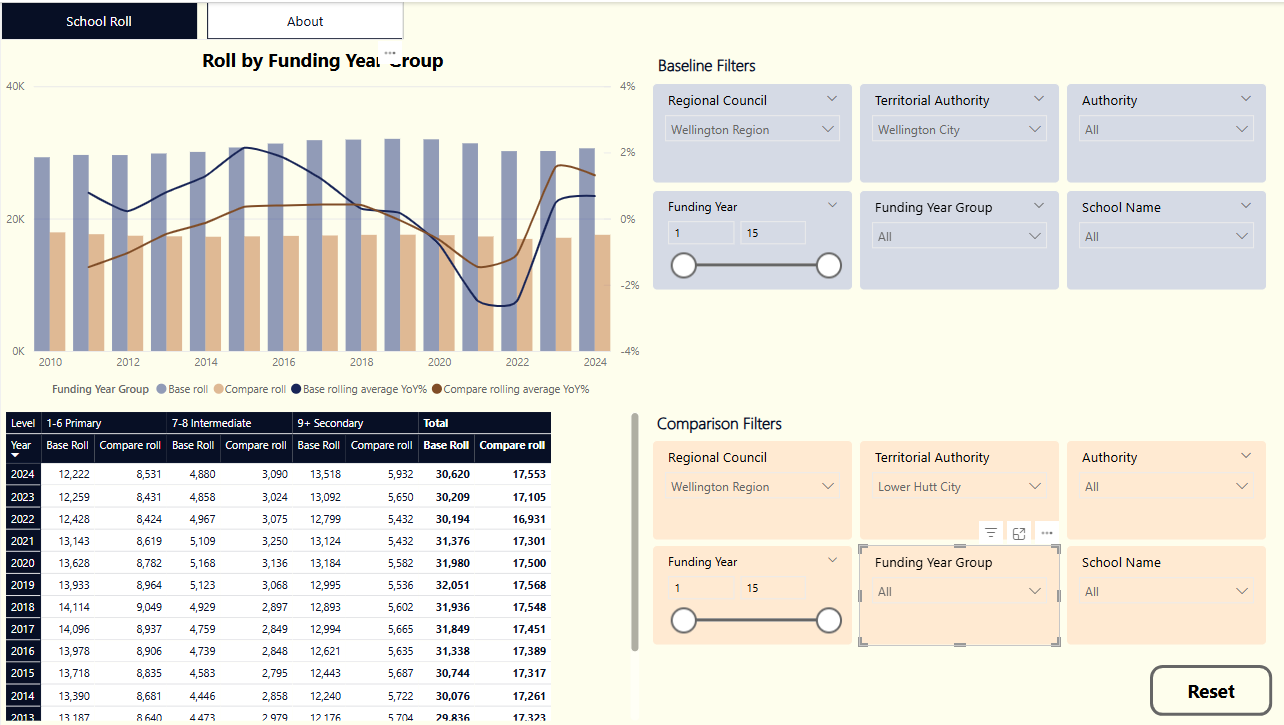

The dashboard page shown, as its layout file describes it:
{"tool":"powerbi","page":{"name":"School Roll","canvas":[1280,720],"ordinal":0},"visuals":[{"type":"slicer","fields":{"Values":["Regional Councils.school_regional_council"]},"box":[647.4,80.8,200,100],"z":0},{"type":"lineClusteredColumnComboChart","title":"Roll by Funding Year Group","fields":{"Category":["metric_funding.period_date.Variation.Date Hierarchy.Year"],"Y2":["metric_funding.roll rolling average YoY%","metric_funding.Compare roll rolling average YoY%"],"Y":["Sum(metric_funding.roll)","metric_funding.Compare roll"]},"box":[0,45,640,358],"z":1000},{"type":"pivotTable","fields":{"Rows":["metric_funding.period_date.Variation.Date Hierarchy.Year"],"Columns":["metric_funding.level"],"Values":["Sum(metric_funding.roll)","metric_funding.Compare roll"]},"box":[0,403,640,317],"z":2000},{"type":"actionButton","box":[1142.9,659.5,121.6,50.6],"z":3000},{"type":"slicer","fields":{"Values":["Compare Regional Councils.school_regional_council"]},"box":[647.3,435.3,200,100],"z":4000},{"type":"textbox","box":[648.4,46.8,610,34],"z":5000},{"type":"textbox","box":[647.3,402.3,610,33],"z":6000},{"type":"slicer","fields":{"Values":["Territorial Authorities.school_ta_with_akl_local_board"]},"box":[853.4,80.8,200,100],"z":7000},{"type":"slicer","fields":{"Values":["Compare Territorial Authorities.school_ta_with_akl_local_board"]},"box":[853.3,435.3,200,100],"z":8000},{"type":"slicer","fields":{"Values":["Authority.school_authority"]},"box":[1059.4,80.8,200,100],"z":9000},{"type":"slicer","fields":{"Values":["Compare Authority.school_authority"]},"box":[1059.3,435.3,200,100],"z":10000},{"type":"slicer","fields":{"Values":["Funding.Year"]},"box":[647.4,187,200,100],"z":11000},{"type":"slicer","fields":{"Values":["Compare Funding.year"]},"box":[647.3,540.1,200,100],"z":12000},{"type":"slicer","fields":{"Values":["School Names.school_name"]},"box":[1059.4,187,200,100],"z":13000},{"type":"slicer","fields":{"Values":["Compare School Names.school_name"]},"box":[1059.3,540.1,200,100],"z":14000},{"type":"slicer","fields":{"Values":["level.Level"]},"box":[853.4,187,200,100],"z":15000},{"type":"slicer","fields":{"Values":["Compare Level.Level"]},"box":[853.3,540.1,200,100],"z":16000},{"type":"pageNavigator","box":[0,0,400.3,37.8],"z":16001}]}

Visuals, with their boxes in screenshot pixels (x1, y1, x2, y2), scaled from the page's 1280x720 canvas onto the 1284x725 screenshot:
slicer - Regional Councils.school_regional_council: (649,81,850,182)
"Roll by Funding Year Group" lineClusteredColumnComboChart: (0,45,642,406)
pivotTable - metric_funding.period_date.Variation.Date Hierarchy.Year x metric_funding.level: (0,406,642,724)
actionButton: (1146,664,1268,715)
slicer - Compare Regional Councils.school_regional_council: (649,438,850,539)
textbox: (650,47,1262,81)
textbox: (649,405,1261,438)
slicer - Territorial Authorities.school_ta_with_akl_local_board: (856,81,1057,182)
slicer - Compare Territorial Authorities.school_ta_with_akl_local_board: (856,438,1057,539)
slicer - Authority.school_authority: (1063,81,1263,182)
slicer - Compare Authority.school_authority: (1063,438,1263,539)
slicer - Funding.Year: (649,188,850,289)
slicer - Compare Funding.year: (649,544,850,645)
slicer - School Names.school_name: (1063,188,1263,289)
slicer - Compare School Names.school_name: (1063,544,1263,645)
slicer - level.Level: (856,188,1057,289)
slicer - Compare Level.Level: (856,544,1057,645)
pageNavigator: (0,0,402,38)
